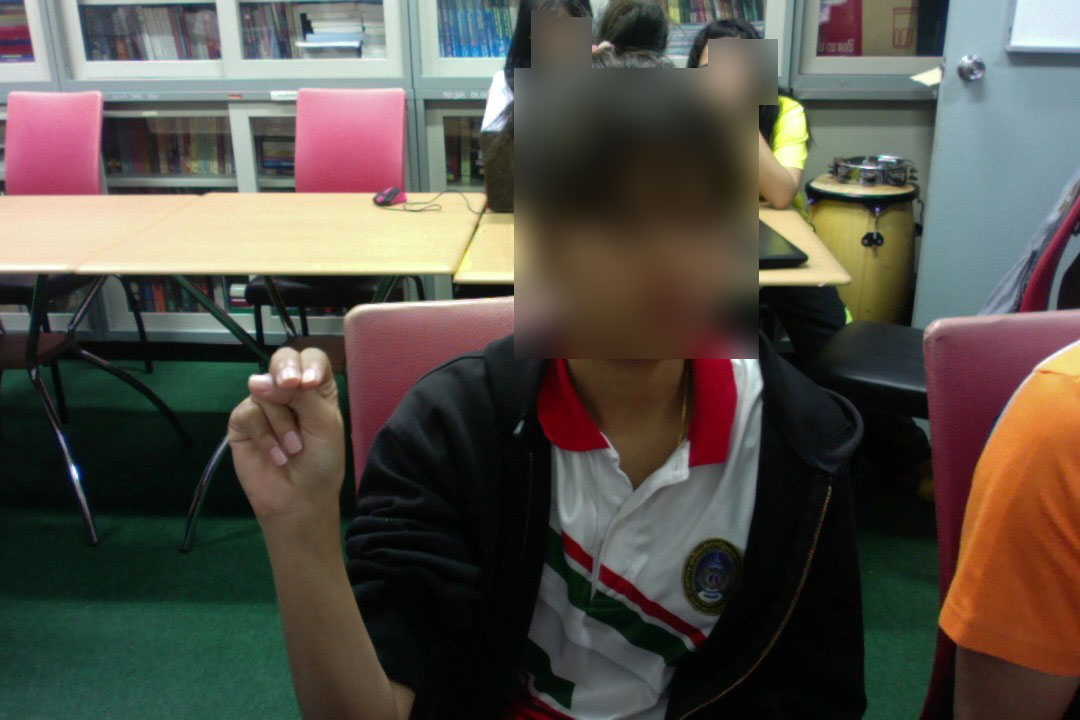nor: (223, 339, 355, 544)
